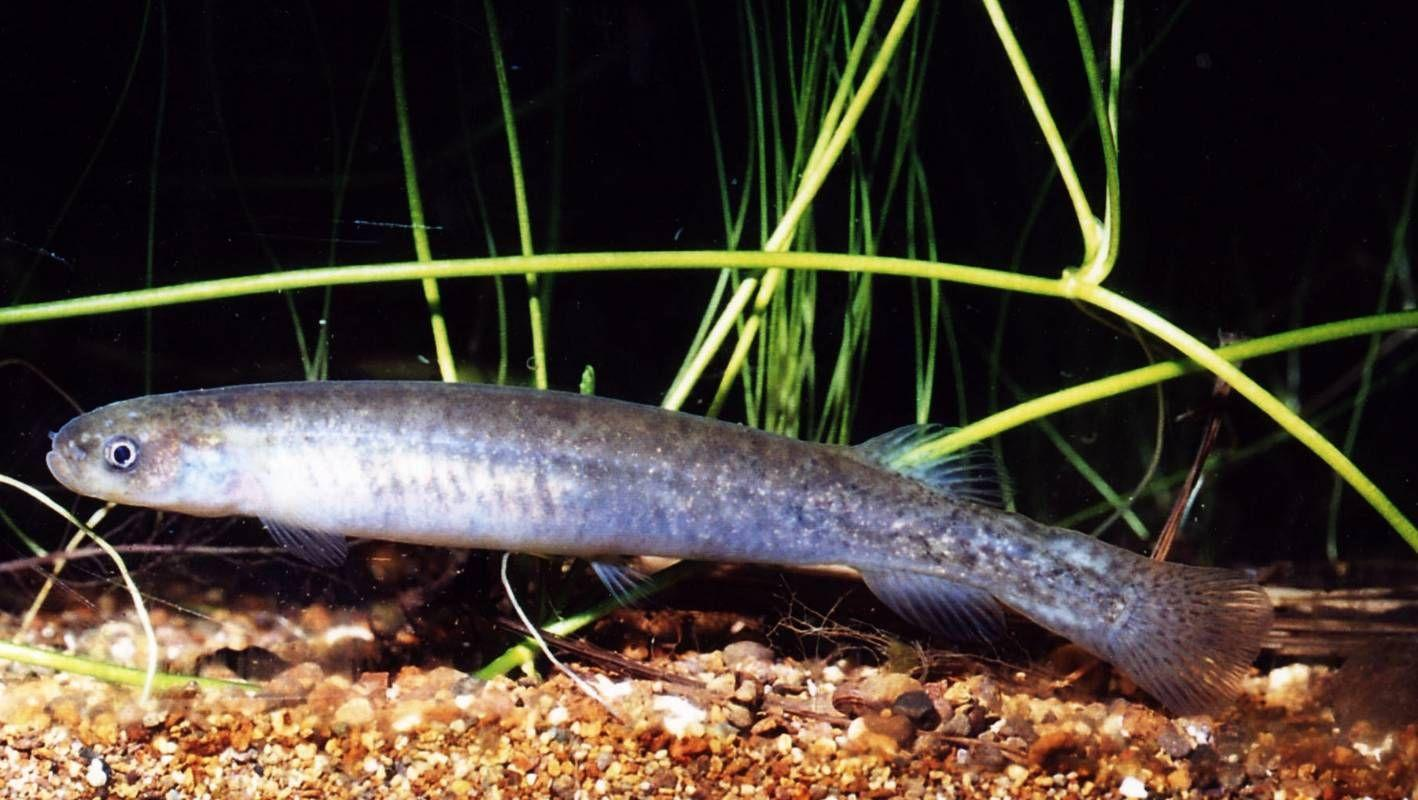Goby: (47, 360, 1266, 726)
